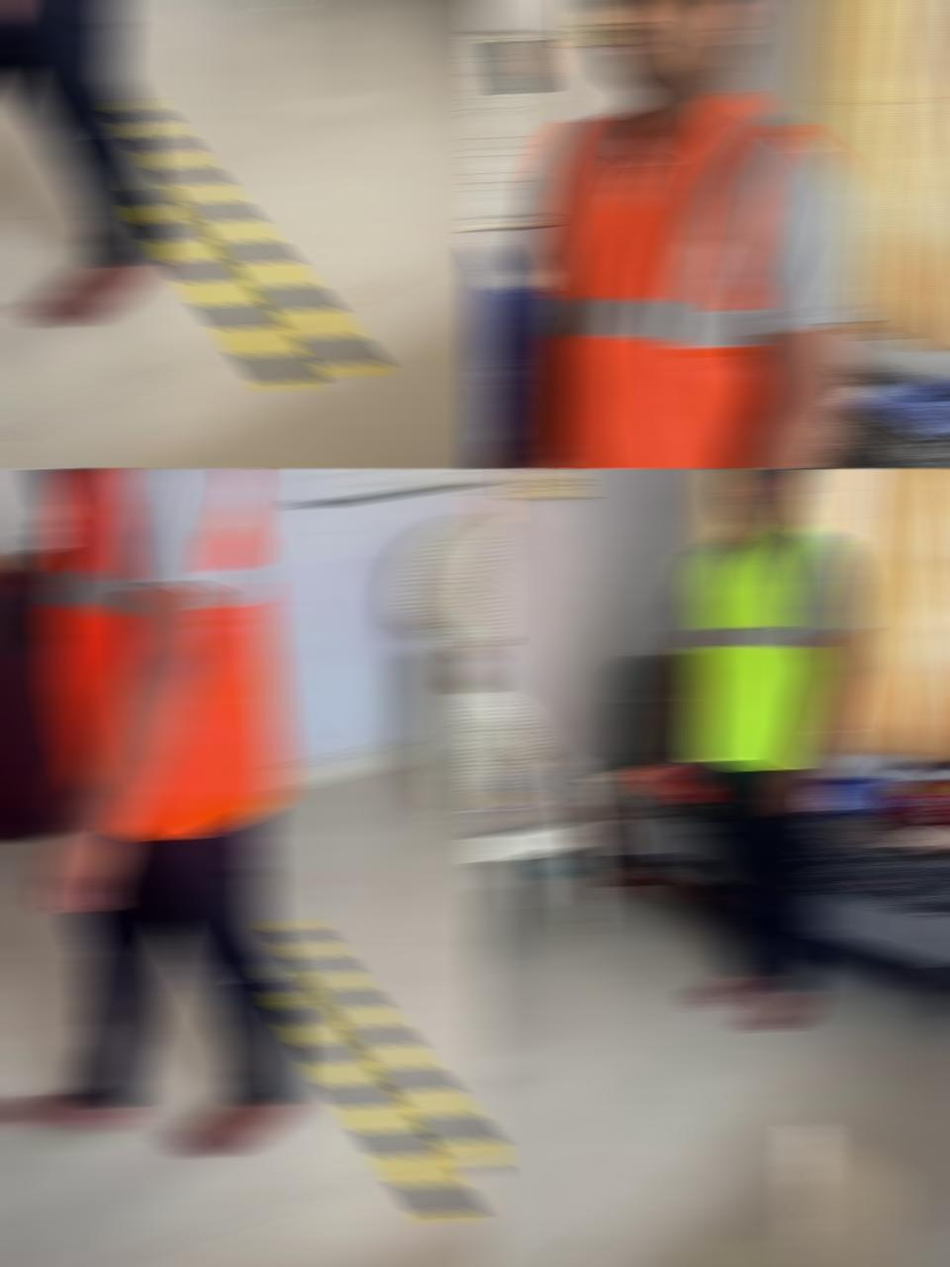BorderLine: (117, 99, 380, 392), (265, 920, 493, 1226), (475, 1190, 581, 1267)
No_Helmet: (589, 0, 772, 98), (720, 468, 815, 535)
Person: (0, 468, 304, 1160), (478, 0, 869, 468), (656, 468, 870, 1034), (0, 0, 165, 322)
Vest: (534, 89, 848, 468), (48, 468, 286, 839), (673, 524, 857, 776)
